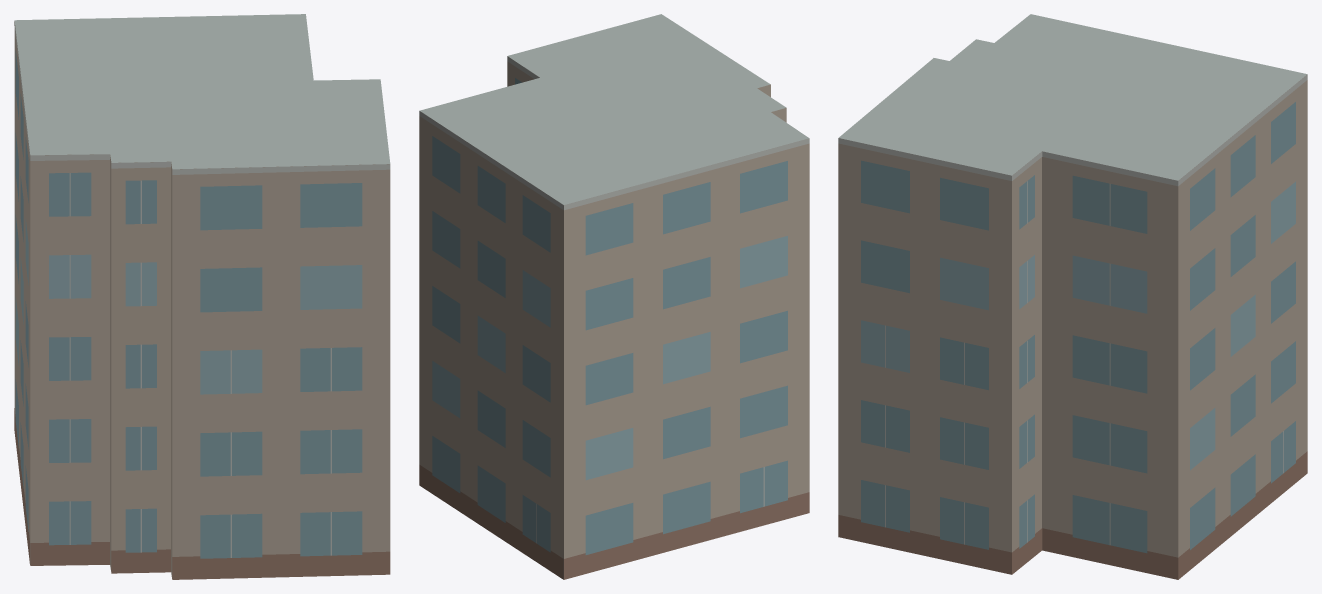
The model's file is survey-upis-32971271.glb.
The picture shows the model from 3 angles, left to right: view 1: azimuth 30°, elevation 25°; view 2: azimuth 150°, elevation 25°; view 3: azimuth 270°, elevation 25°; orthographic projection. The views are drawn at different scales.
Visible parts, largest first — view 1: survey-upis-32971271.tmp; view 2: survey-upis-32971271.tmp; view 3: survey-upis-32971271.tmp.
Boxes of the visible parts, x1,y1,x2,y2 form: survey-upis-32971271.tmp: (14, 14, 390, 579); survey-upis-32971271.tmp: (419, 14, 809, 579); survey-upis-32971271.tmp: (838, 14, 1307, 579).
Size of the model in its own units: 15.78 by 17.6 by 18.76.
